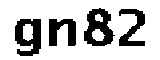2: (114, 3, 148, 52)
8: (81, 6, 114, 54)
g: (11, 16, 43, 58)
n: (46, 18, 79, 51)
